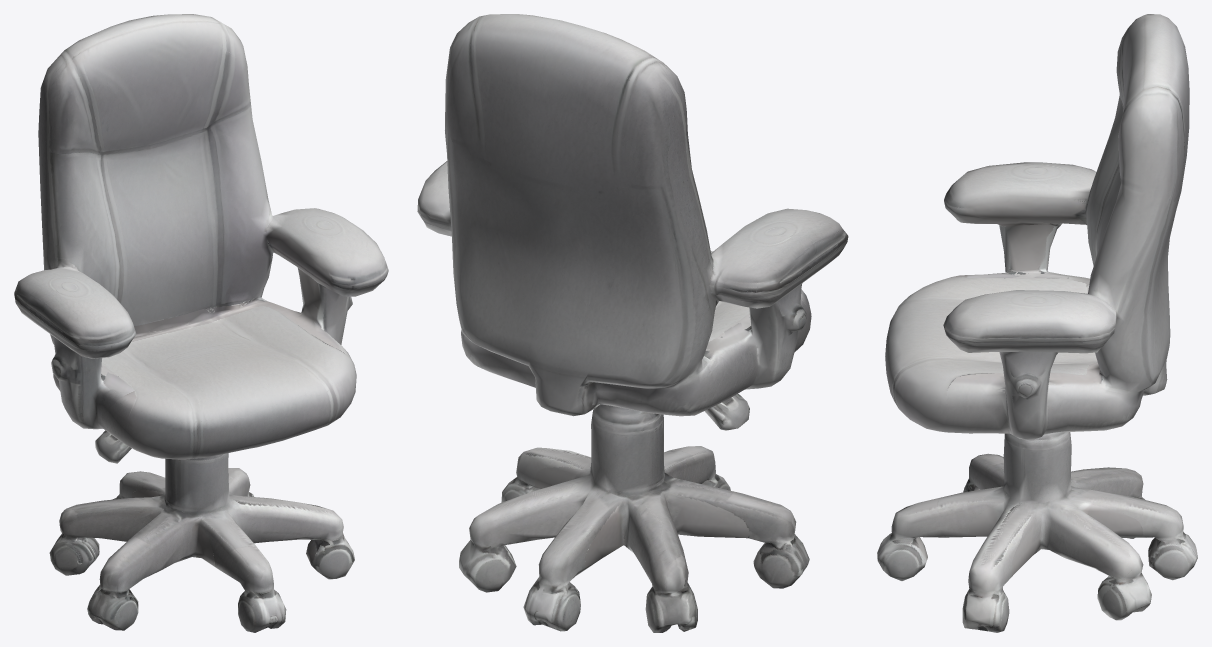
File: White Office Chair.fbx
3 views of the same model, side by side, from view 1: azimuth 30°, elevation 25°; view 2: azimuth 150°, elevation 25°; view 3: azimuth 270°, elevation 25° (orthographic). The views are drawn at different scales.
Parts seen in each view (by area): view 1: input; view 2: input; view 3: input.
Boxes of the visible parts, x1=… form: input: x1=14, y1=14, x2=388, y2=632; input: x1=417, y1=14, x2=848, y2=632; input: x1=877, y1=14, x2=1197, y2=632.
Bounding box in the file's own units: 62.18 × 96.82 × 52.19.
1 material, 1 textured.
